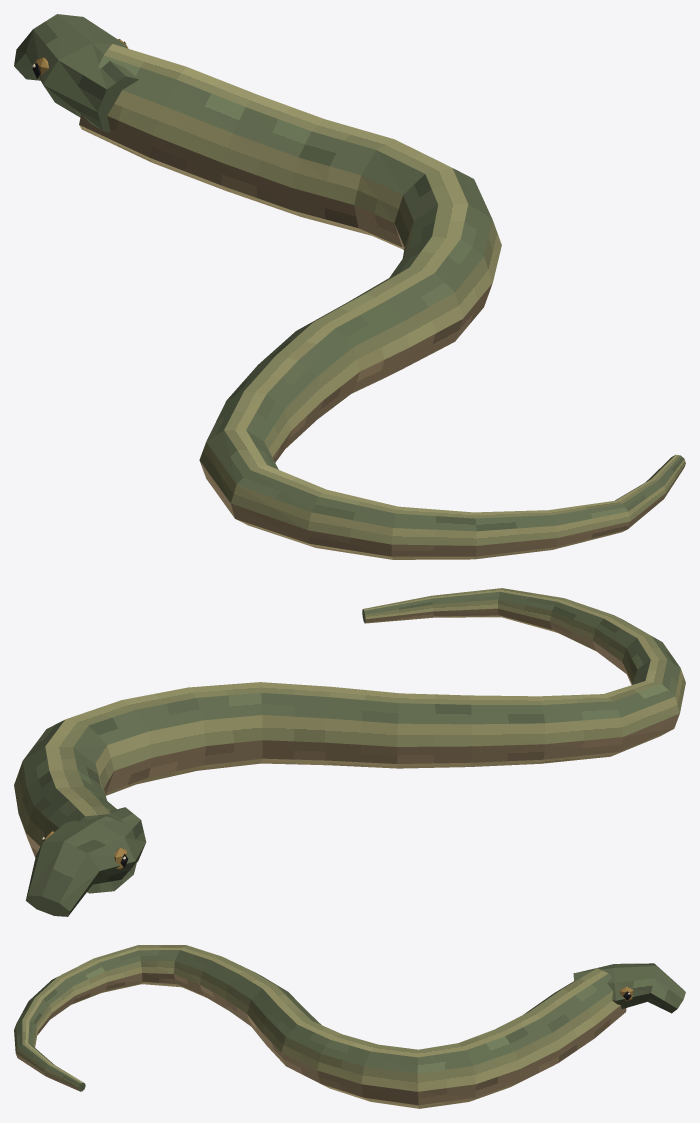
Rendered from mon_gartersnake_baby.glb.
3 views of the same model, one above another, from view 1: azimuth 30°, elevation 25°; view 2: azimuth 150°, elevation 25°; view 3: azimuth 270°, elevation 25° (orthographic). The views are drawn at different scales.
Visible parts, largest first — view 1: closed_body; view 2: closed_body; view 3: closed_body.
Part boxes in pixels (box(x1,y1,x2,y2)): closed_body: box(14, 14, 685, 559); closed_body: box(14, 588, 685, 916); closed_body: box(14, 945, 685, 1108).
Size of the model in its own units: 0.0834 by 0.0234 by 0.1668.
Materials: 1 (1 with a texture image).
